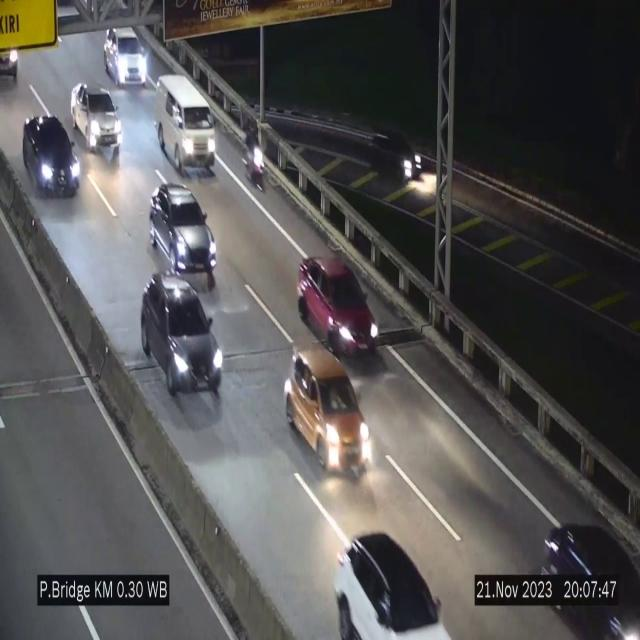Car: (285, 344, 374, 474), (141, 272, 223, 403), (297, 255, 382, 354), (157, 74, 216, 175), (150, 183, 216, 273), (24, 115, 84, 209), (71, 84, 121, 165), (104, 28, 148, 86)
Motorcycle: (242, 118, 266, 196)
